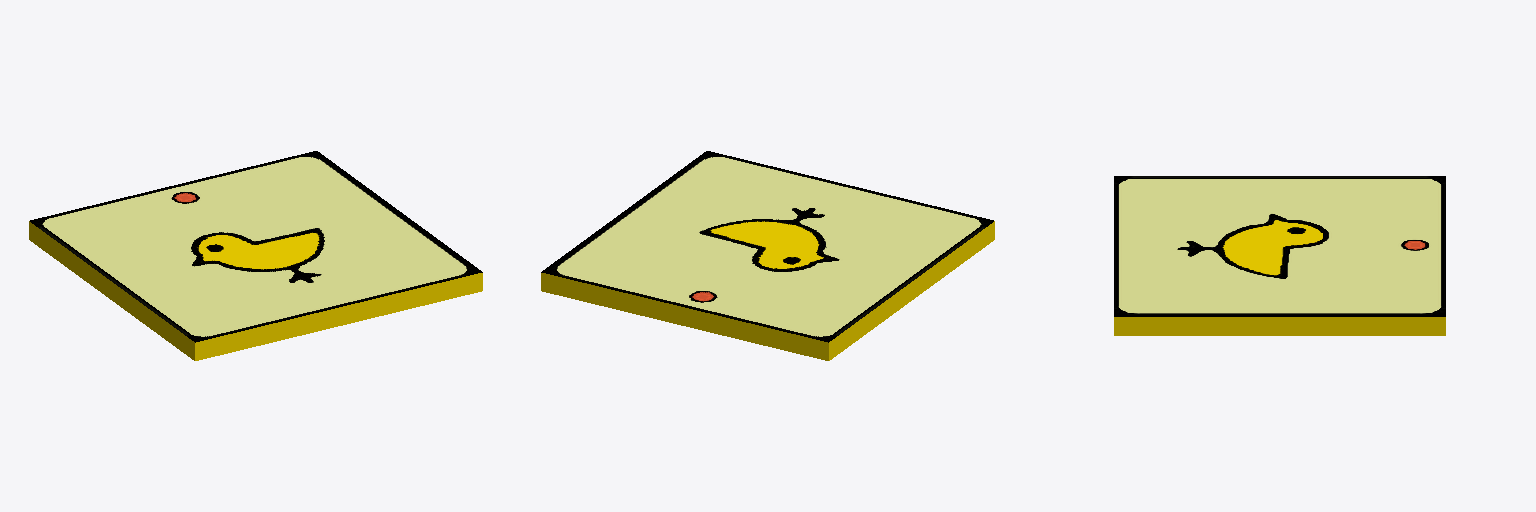
3 views of the same model, side by side, from view 1: azimuth 30°, elevation 25°; view 2: azimuth 150°, elevation 25°; view 3: azimuth 270°, elevation 25° (orthographic).
Visible parts, largest first — view 1: Chick; view 2: Chick; view 3: Chick.
Part boxes in pixels (x1,y1,x2,y2): Chick: (29, 151, 482, 360); Chick: (541, 151, 994, 360); Chick: (1114, 176, 1445, 335).
Bounding box in the file's own units: 0.8 × 0.05 × 0.8.
Materials: 1 (1 with a texture image).